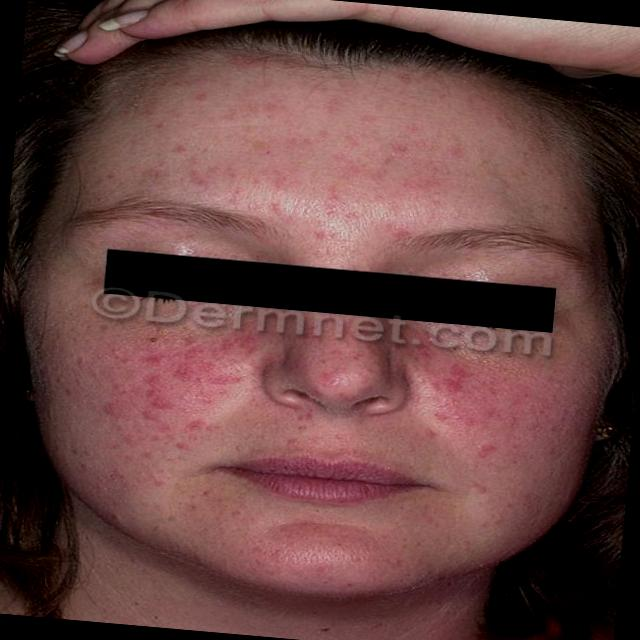skinredness: (45, 61, 577, 475)
